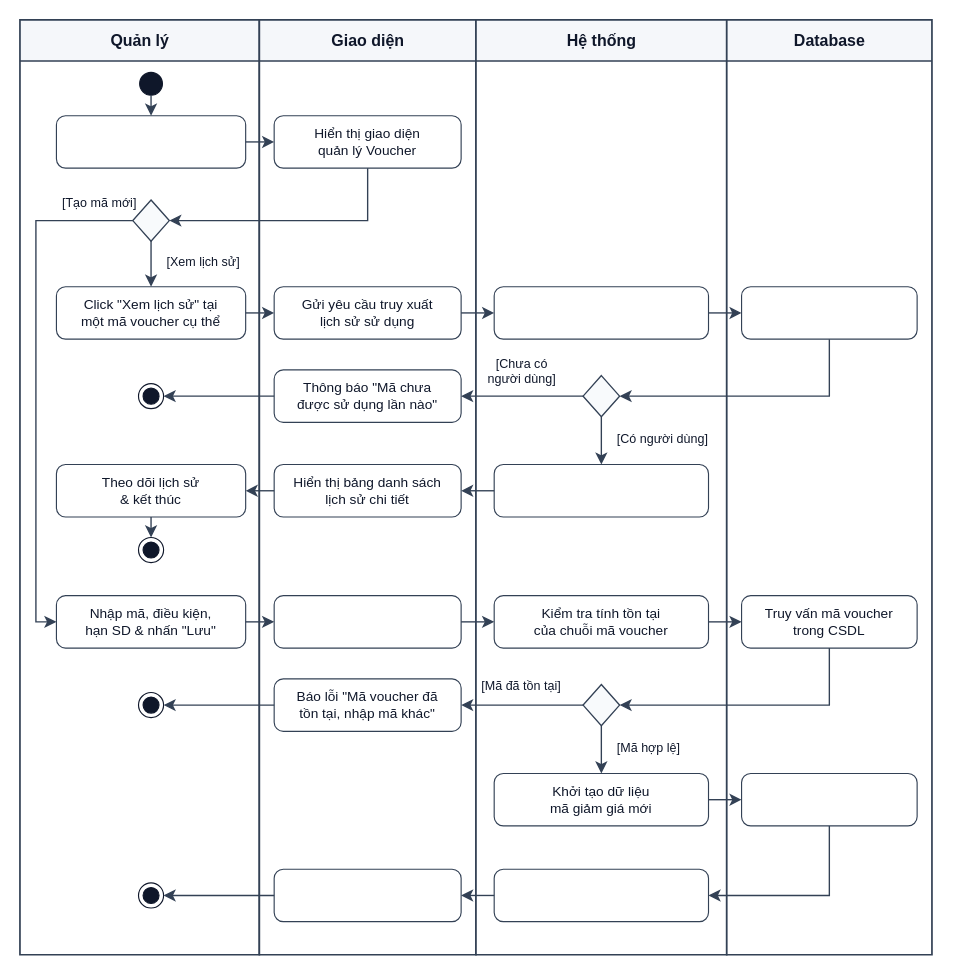
The diagram is 953 pixels wide and 976 high, and some of its shapes have lost their labels. Here are the shapes that lost their labels. From the top down, the centre of each, then its label:
[150,141]: Truy cập chức năng "Quản lý mã giảm giá"
[601,312]: Truy xuất các giao dịch liên quan đến mã
[828,312]: Tìm kiếm hóa đơn đã áp dụng mã
[601,490]: Tổng hợp thông tin (Mã HĐ, KH, Ngày, Giảm)
[367,621]: Gửi dữ liệu phát hành mã giảm giá
[828,799]: Ghi nhận mã mới vào CSDL
[367,895]: Thông báo thành công & Cập nhật danh sách
[601,895]: Xác nhận lưu thành công
